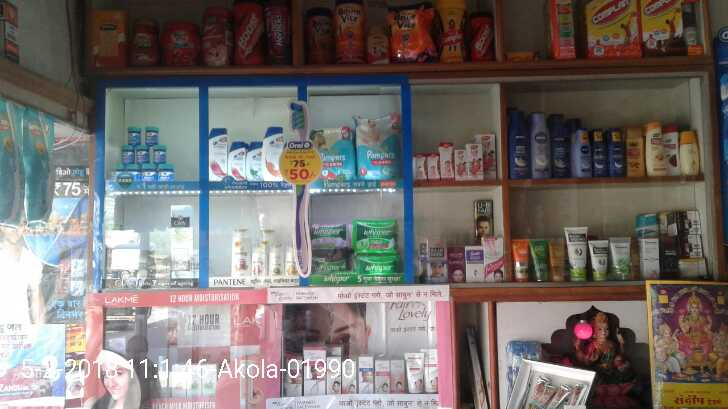beauty: (169, 204, 196, 268), (205, 126, 228, 180), (230, 227, 251, 281), (265, 121, 284, 179), (228, 138, 246, 182), (245, 143, 264, 180), (269, 241, 285, 275), (250, 247, 263, 277)
pharmacy: (355, 118, 399, 176), (311, 133, 357, 179), (352, 218, 400, 250), (357, 249, 402, 276), (313, 248, 353, 275), (308, 224, 344, 248), (116, 147, 141, 168), (123, 170, 175, 179), (148, 143, 167, 166), (121, 125, 140, 146), (140, 128, 158, 147), (134, 149, 152, 168), (108, 171, 125, 183)
